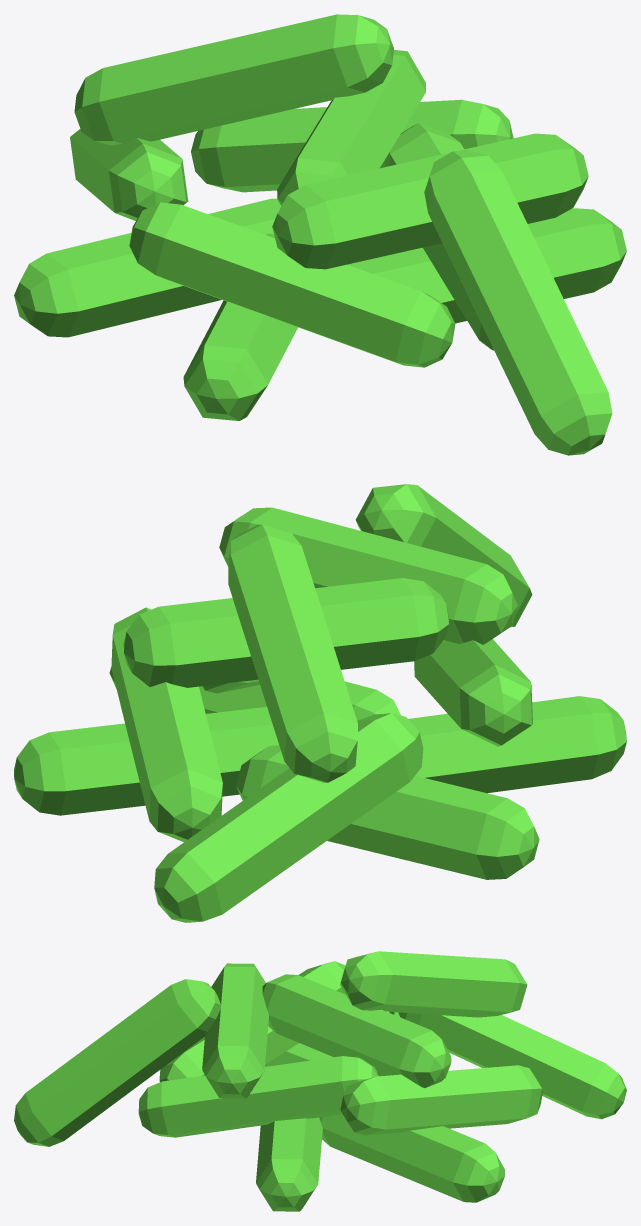
Rendered from Bacteria_01_group.fbx.
3 views of the same model, one above another, from view 1: azimuth 30°, elevation 25°; view 2: azimuth 150°, elevation 25°; view 3: azimuth 270°, elevation 25° (orthographic). The views are drawn at different scales.
Visible parts, largest first — view 1: Bacteria_01_group; view 2: Bacteria_01_group; view 3: Bacteria_01_group.
Boxes of the visible parts, x1=… form: Bacteria_01_group: x1=14, y1=14, x2=626, y2=455; Bacteria_01_group: x1=14, y1=484, x2=626, y2=922; Bacteria_01_group: x1=14, y1=951, x2=626, y2=1211.
Bounding box in the file's own units: 62.96 × 31.48 × 90.01.
